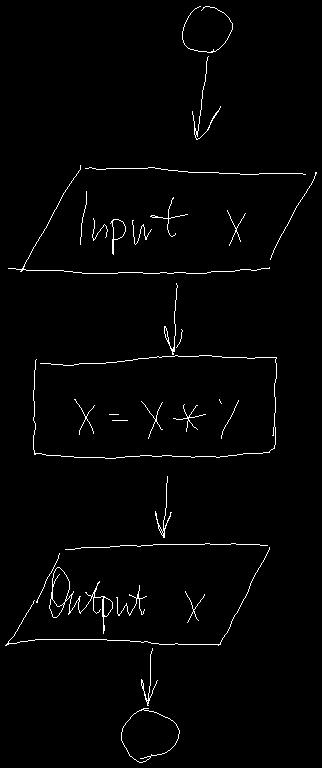arrow: (192, 56, 220, 139), (164, 283, 182, 354), (155, 476, 171, 537), (141, 648, 157, 705)
connection: (121, 708, 179, 762), (182, 6, 232, 52)
data: (8, 165, 316, 273), (5, 543, 269, 645)
process: (33, 355, 276, 458)
text: (80, 191, 245, 254), (49, 567, 204, 633), (74, 399, 238, 438)
